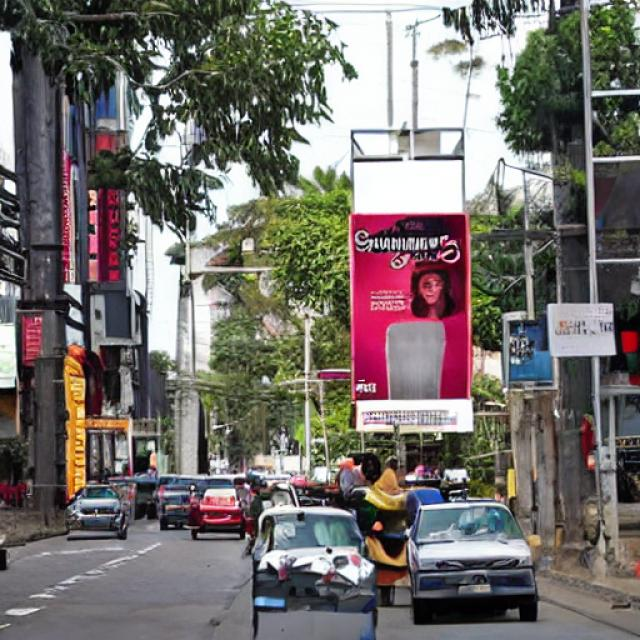Billboard: (348, 210, 476, 438)
